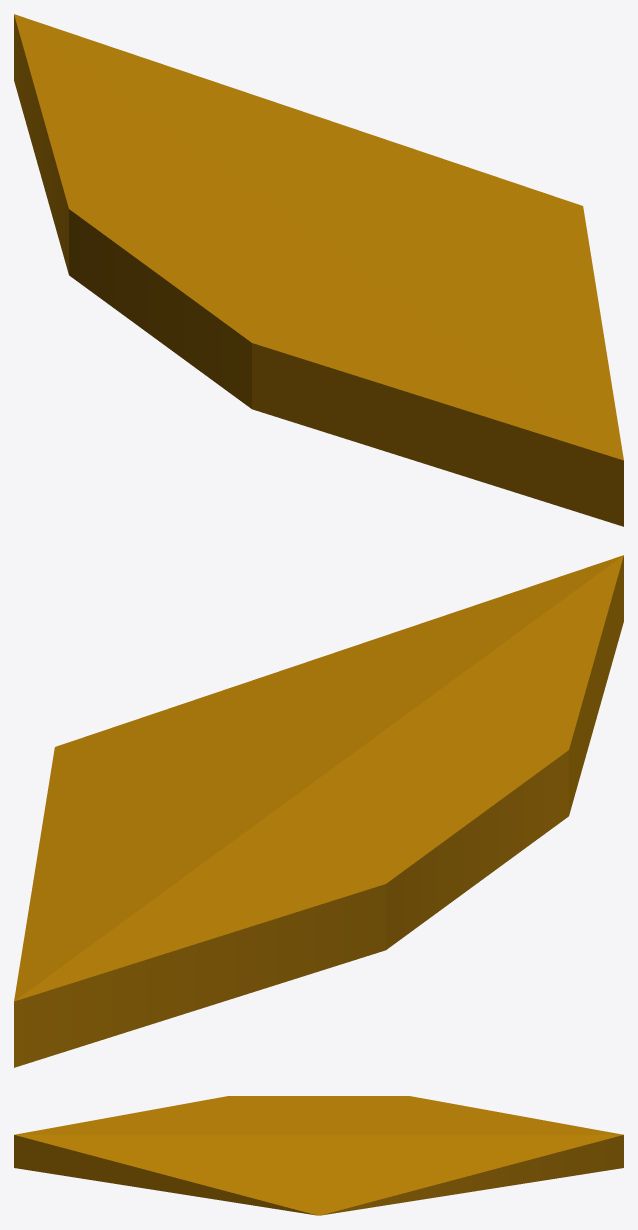
Rendered from flutter-wing-1.glb.
The picture shows the model from 3 angles, top to bottom: view 1: azimuth 30°, elevation 25°; view 2: azimuth 150°, elevation 25°; view 3: azimuth 270°, elevation 25°; orthographic projection. The views are drawn at different scales.
Visible parts, largest first — view 1: mesh0; view 2: mesh0; view 3: mesh0.
Boxes of the visible parts, x1,y1,x2,y2 form: mesh0: [14, 14, 623, 526]; mesh0: [14, 555, 623, 1067]; mesh0: [14, 1096, 623, 1215].
Bounding box in the file's own units: 0.4 × 0.06 × 1.
